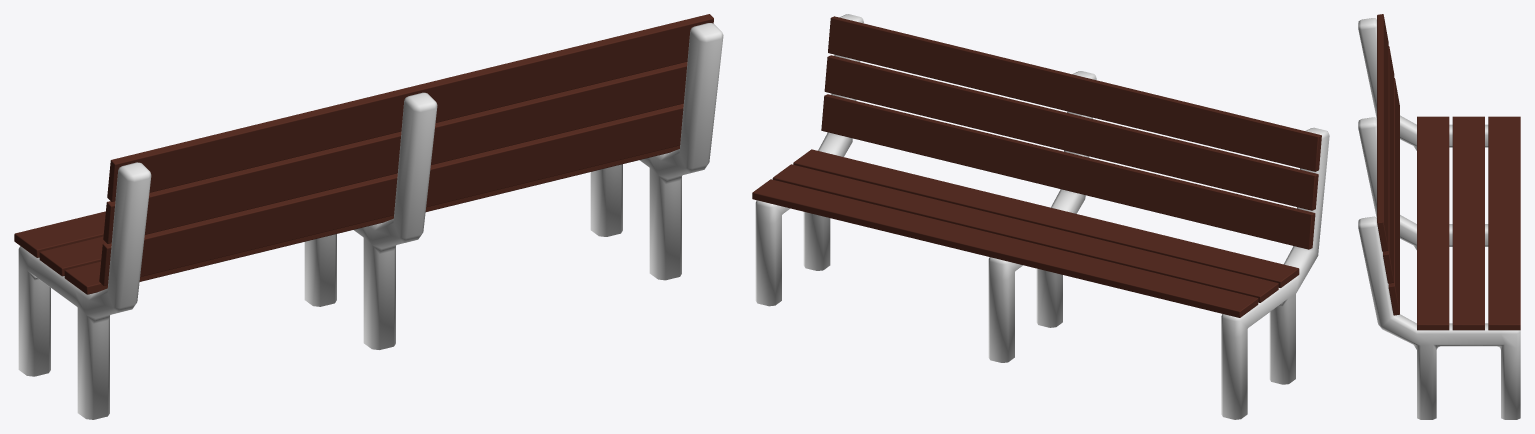
The model's file is Bank.fbx.
3 views of the same model, side by side, from view 1: azimuth 30°, elevation 25°; view 2: azimuth 150°, elevation 25°; view 3: azimuth 270°, elevation 25° (orthographic). The views are drawn at different scales.
Visible parts, largest first — view 1: Bank; view 2: Bank; view 3: Bank.
Part boxes in pixels (x1,y1,x2,y2): Bank: [14, 14, 723, 419]; Bank: [752, 14, 1329, 419]; Bank: [1358, 14, 1520, 419].
Bounding box in the file's own units: 250 × 111 × 82.45.
